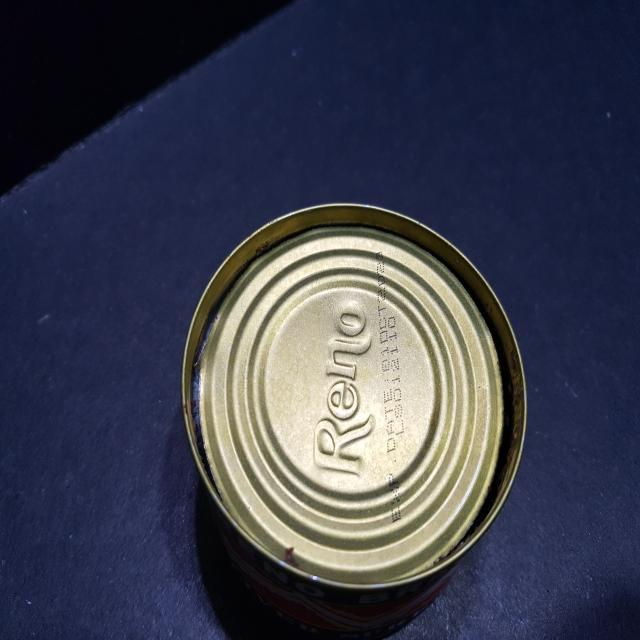metal-can: (176, 196, 533, 640)
